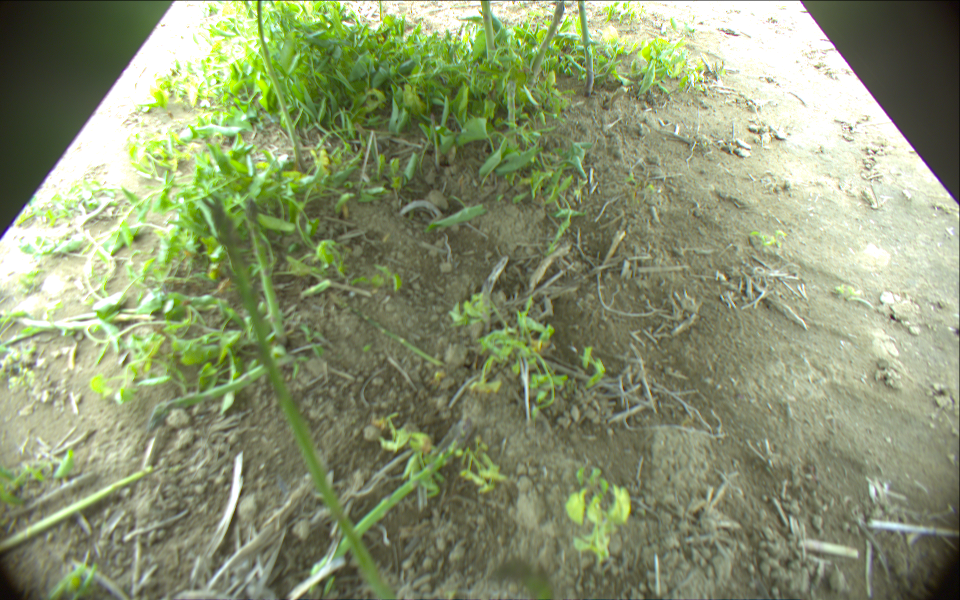aspa: (197, 198, 399, 599), (313, 408, 479, 575), (1, 465, 152, 562), (149, 352, 297, 421), (254, 1, 305, 169), (242, 194, 289, 343), (523, 1, 568, 87), (573, 1, 598, 98), (479, 1, 501, 64), (505, 77, 522, 155)
